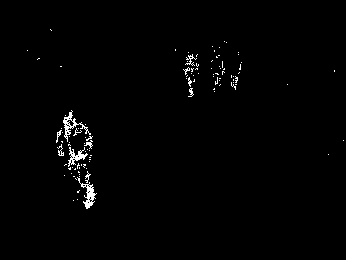person: (54, 110, 98, 208), (184, 51, 201, 98)
